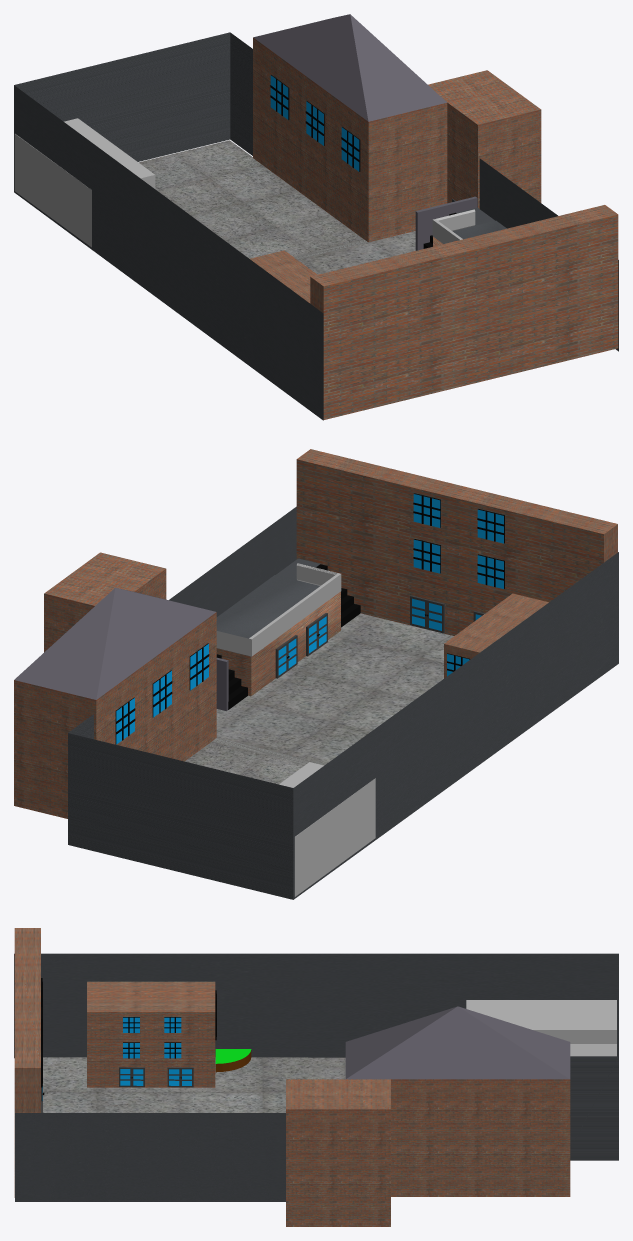
File: mapa FINAL (1).fbx
3 views of the same model, one above another, from view 1: azimuth 30°, elevation 25°; view 2: azimuth 150°, elevation 25°; view 3: azimuth 270°, elevation 25° (orthographic). The views are drawn at different scales.
Visible parts, largest first — view 1: pared.001, edificio montañeses, edificio libertador, suelo, DAT, pared, Cube.003, labs, Cube.001, baranda, comedor; view 2: pared.001, edificio libertador, edificio montañeses, suelo, comedor, DAT, pared, Cube, baranda, labs, Cube.003, puerta.001 (+3 smaller); view 3: edificio libertador, pared.001, pared, labs, suelo, DAT, edificio montañeses, Cube.002, plantas, puerta.008, puerta.007.
Part boxes in pixels (box(x1,y1,x2,y2)): pared.001: box(14, 32, 323, 420); edificio montañeses: box(310, 205, 618, 419); edificio libertador: box(253, 14, 541, 242); suelo: box(138, 140, 609, 417); DAT: box(14, 118, 155, 247); pared: box(479, 158, 618, 351); Cube.003: box(270, 75, 360, 171); labs: box(250, 250, 317, 303); Cube.001: box(415, 196, 477, 250); baranda: box(432, 209, 475, 243); comedor: box(433, 220, 506, 246); pared.001: box(68, 552, 618, 899); edificio libertador: box(14, 552, 216, 818); edificio montañeses: box(296, 449, 617, 635); suelo: box(184, 613, 453, 784); comedor: box(216, 575, 340, 696); DAT: box(279, 762, 375, 896); pared: box(169, 506, 296, 616); Cube: box(413, 493, 504, 588); baranda: box(216, 563, 341, 656); labs: box(444, 593, 548, 678); Cube.003: box(115, 643, 209, 744); puerta.001: box(410, 595, 444, 633); edificio libertador: box(286, 1006, 570, 1226); pared.001: box(14, 953, 618, 1160); pared: box(15, 1113, 285, 1201); labs: box(87, 981, 215, 1087); suelo: box(43, 1057, 345, 1112); DAT: box(466, 1000, 616, 1056); edificio montañeses: box(14, 928, 40, 1197); Cube.002: box(123, 1017, 181, 1058); plantas: box(215, 1049, 251, 1072); puerta.008: box(167, 1067, 193, 1087); puerta.007: box(119, 1067, 144, 1087).
Bounding box in the file's own units: 1130 × 552 × 1702.
11 materials, 3 textured.
